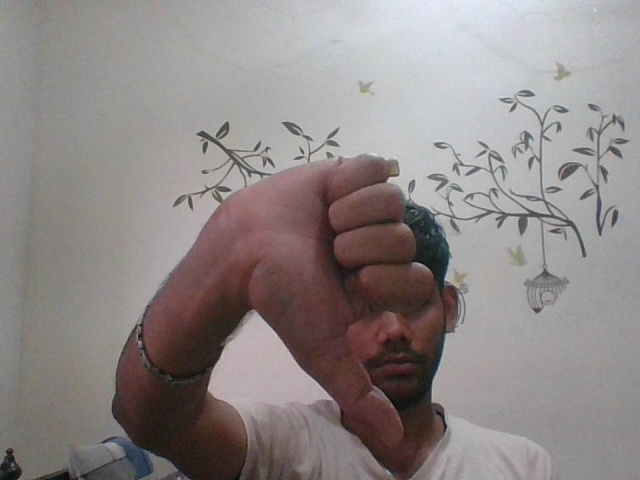No: (210, 162, 466, 456)
